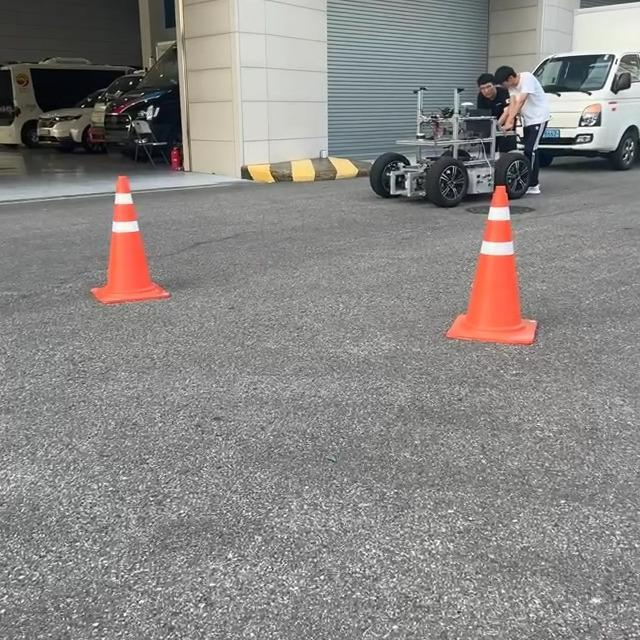fallen_object: (403, 156, 561, 381), (82, 159, 218, 335)
